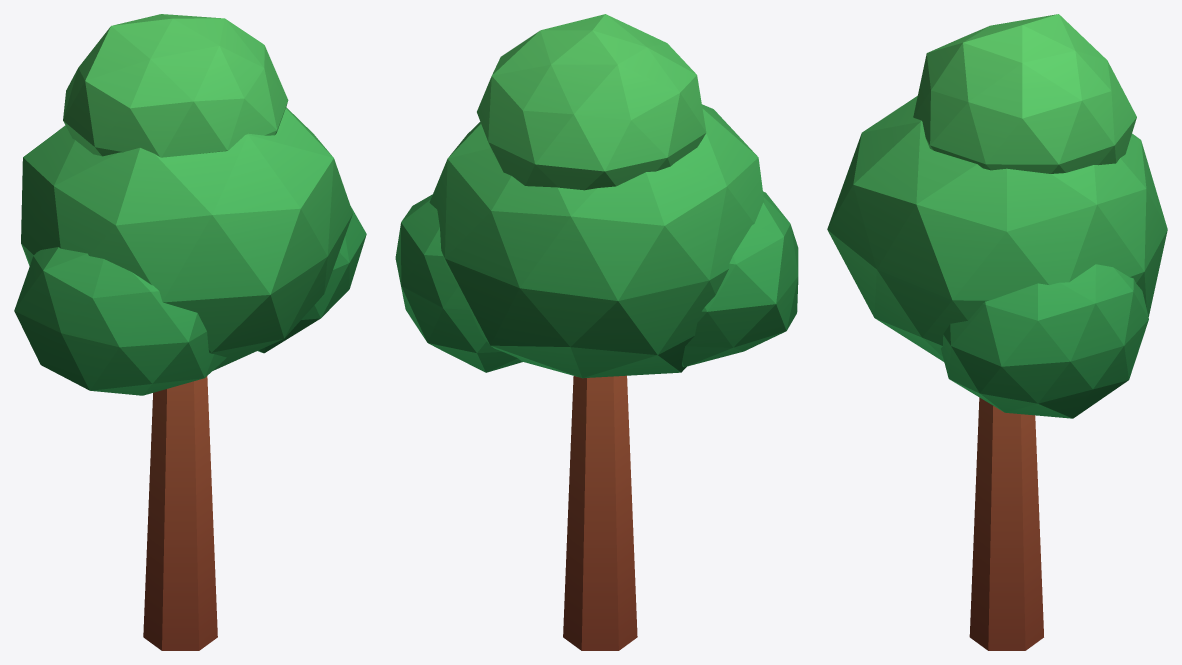
Rendered from arbol_D.glb.
3 renders of one model, left to right at view 1: azimuth 30°, elevation 25°; view 2: azimuth 150°, elevation 25°; view 3: azimuth 270°, elevation 25°, orthographic.
Parts seen in each view (by area): view 1: arbol_D; view 2: arbol_D; view 3: arbol_D.
Part boxes in pixels (box(x1,y1,x2,y2)): arbol_D: box(14, 14, 366, 650); arbol_D: box(395, 14, 798, 650); arbol_D: box(827, 14, 1167, 650).
Bounding box in the file's own units: 1.32 × 2.18 × 1.1.
Materials: 1 (1 with a texture image).
